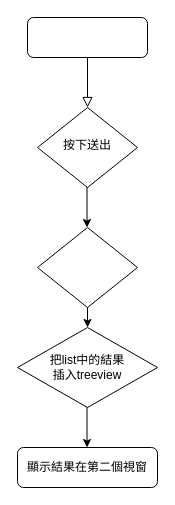
Image size: 175x505. Some labels were removed from this diagram. Here are the shapes that lost their labels. From the top down, the centre of each, then its label:
At point (87, 37): "在視窗輸入所需值".
At point (87, 267): "開始計算 結果".
